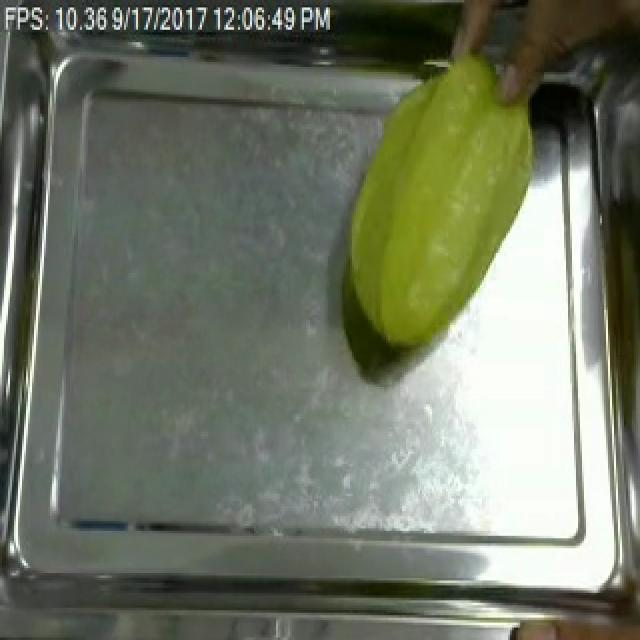fruit: (330, 40, 548, 362)
